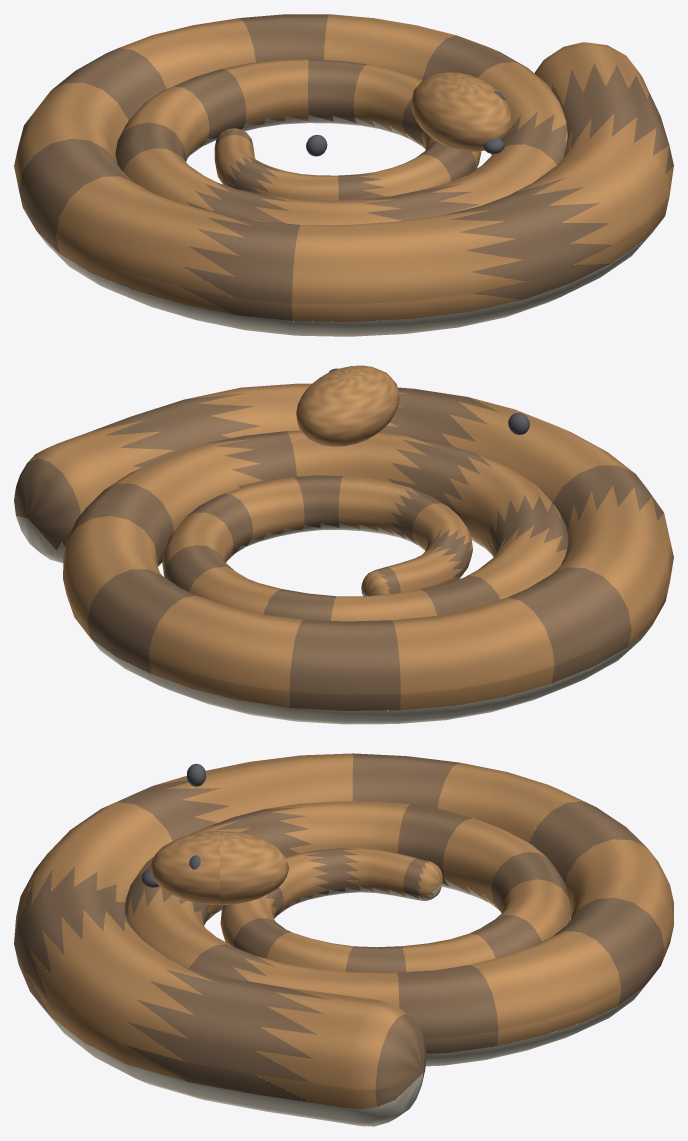
File: CornSnake_godot.glb
The picture shows the model from 3 angles, top to bottom: view 1: azimuth 30°, elevation 25°; view 2: azimuth 150°, elevation 25°; view 3: azimuth 270°, elevation 25°; orthographic projection. The views are drawn at different scales.
Visible parts, largest first — view 1: corn-snake; view 2: corn-snake; view 3: corn-snake.
Boxes of the visible parts, box(x1,y1,x2,y2) form: corn-snake: box(14, 14, 673, 336); corn-snake: box(14, 365, 673, 724); corn-snake: box(14, 753, 673, 1126).
Size of the model in its own units: 0.2457 by 0.07 by 0.2276.
4 materials, 3 textured.
